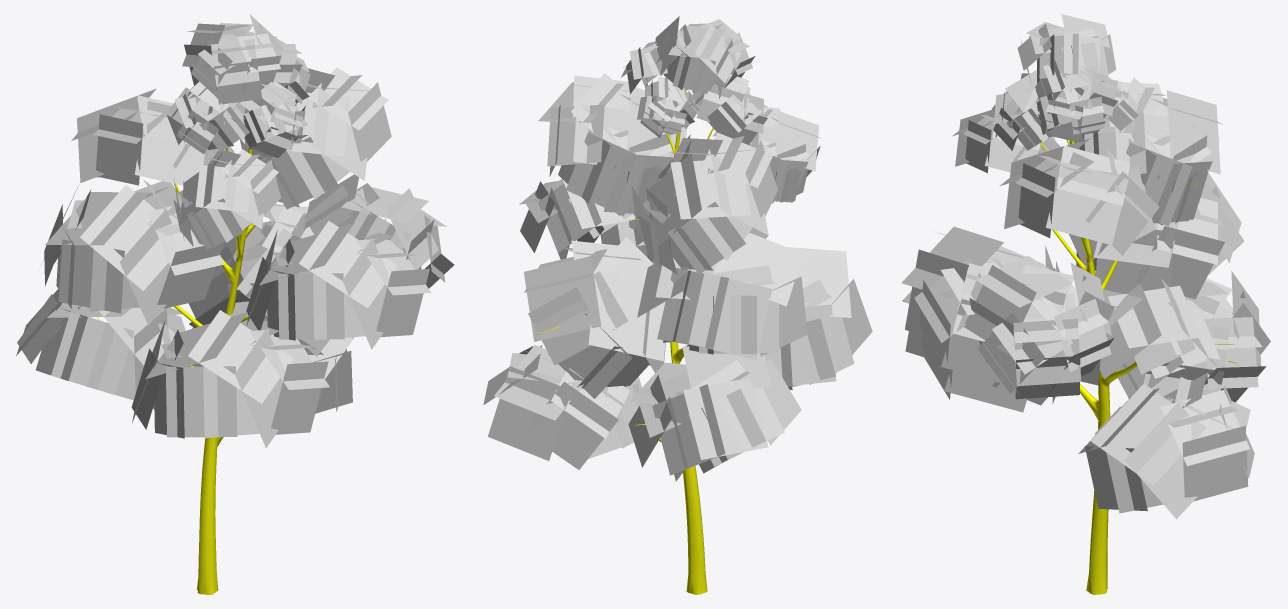
Rendered from Foliage_Trees_Tree_2_Tree2_High.glb.
3 renders of one model, left to right at view 1: azimuth 30°, elevation 25°; view 2: azimuth 150°, elevation 25°; view 3: azimuth 270°, elevation 25°, orthographic. The views are drawn at different scales.
Visible parts, largest first — view 1: tree.005; view 2: tree.005; view 3: tree.005.
Boxes of the visible parts, x1=… form: tree.005: x1=16, y1=14, x2=454, y2=594; tree.005: x1=483, y1=16, x2=872, y2=594; tree.005: x1=901, y1=14, x2=1270, y2=594.
Size of the model in its own units: 4.98 by 8.07 by 4.74.
Materials: 2 (1 with a texture image).
